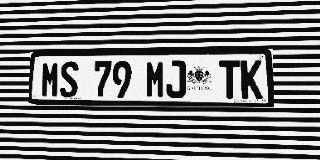7: (93, 61, 112, 98)
9: (112, 61, 132, 98)
J: (166, 61, 186, 98)
K: (241, 60, 263, 99)
M: (145, 61, 165, 98), (41, 62, 60, 97)
S: (60, 61, 79, 98)
T: (219, 60, 240, 99)
